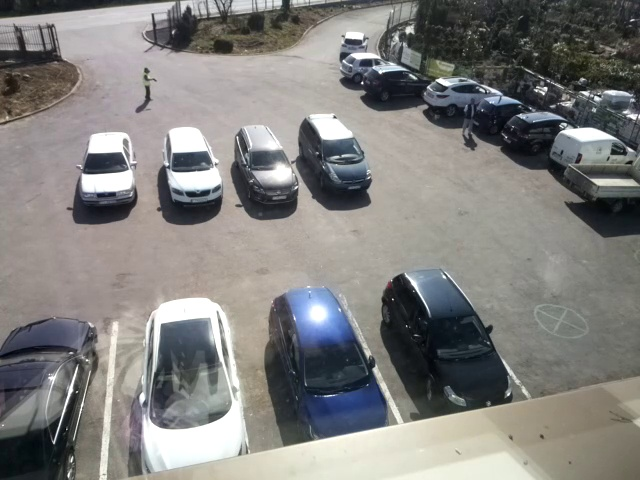car: (266, 283, 387, 441), (381, 270, 512, 414), (140, 298, 248, 471), (1, 317, 96, 478), (299, 113, 371, 193), (234, 123, 299, 205), (161, 125, 224, 206), (78, 131, 137, 207), (548, 129, 639, 178), (422, 75, 512, 117), (501, 113, 582, 153), (364, 67, 439, 100), (472, 96, 536, 134), (341, 53, 401, 83), (339, 33, 369, 58)
